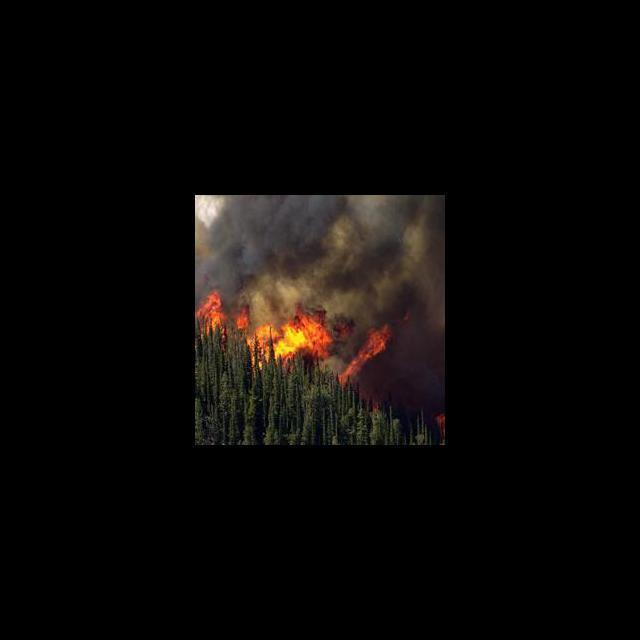Fire: (250, 304, 334, 368), (338, 324, 396, 386), (196, 291, 248, 337), (436, 409, 445, 436)
Smoke: (196, 196, 444, 290), (396, 292, 445, 403)
